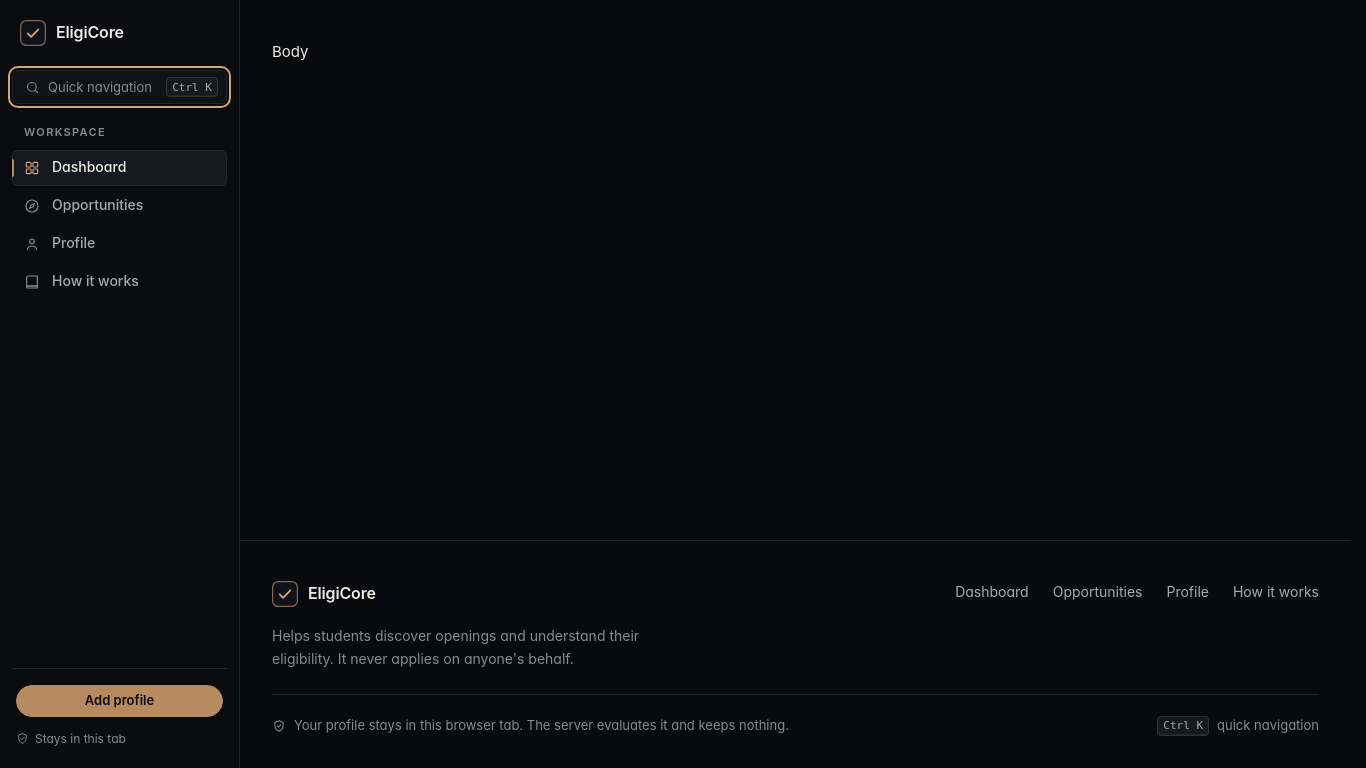
Test case: quick navigation › closes on Escape and returns focus to what opened it
Click the button "Quick navigation Ctrl K" at (120, 87), box top-left (12, 70), bottom-right (227, 104)
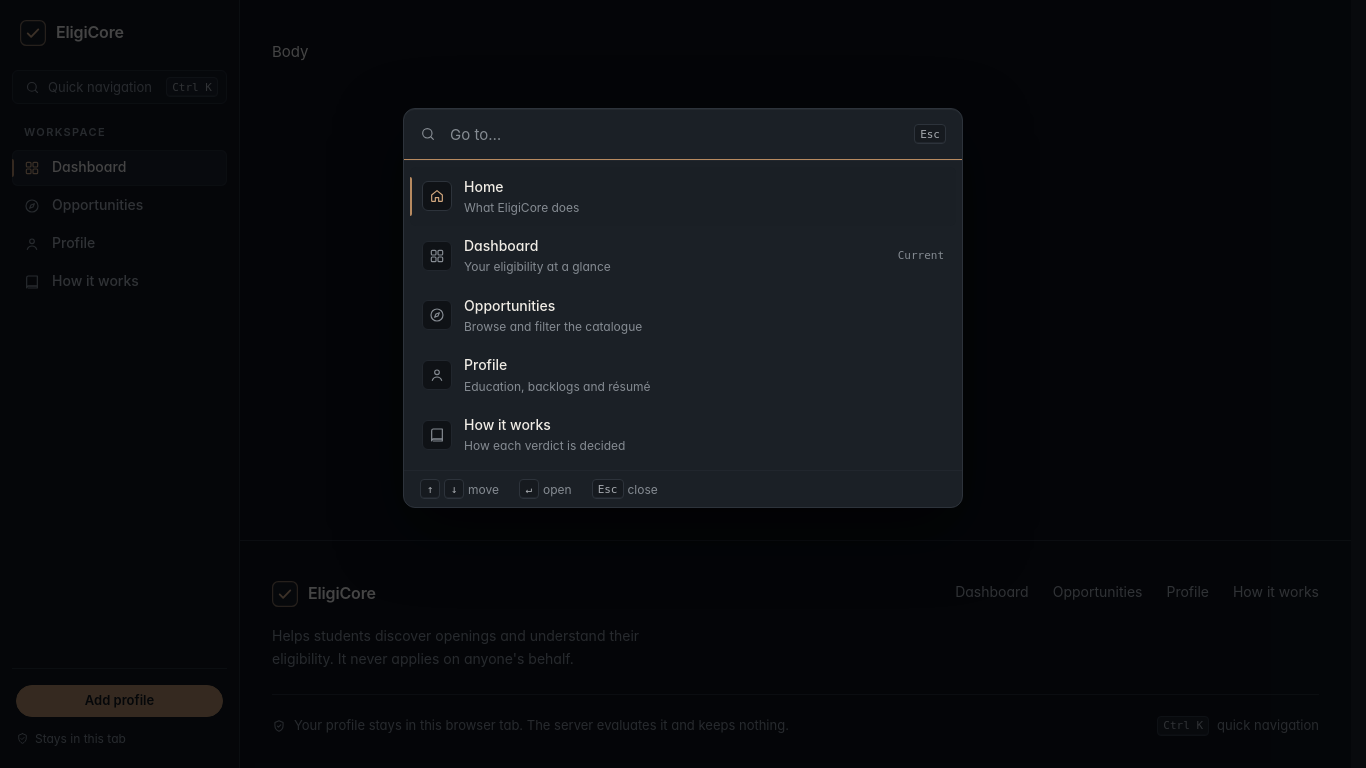
Press Escape in the dropdown named "Go to page", box top-left (448, 108), bottom-right (902, 160)
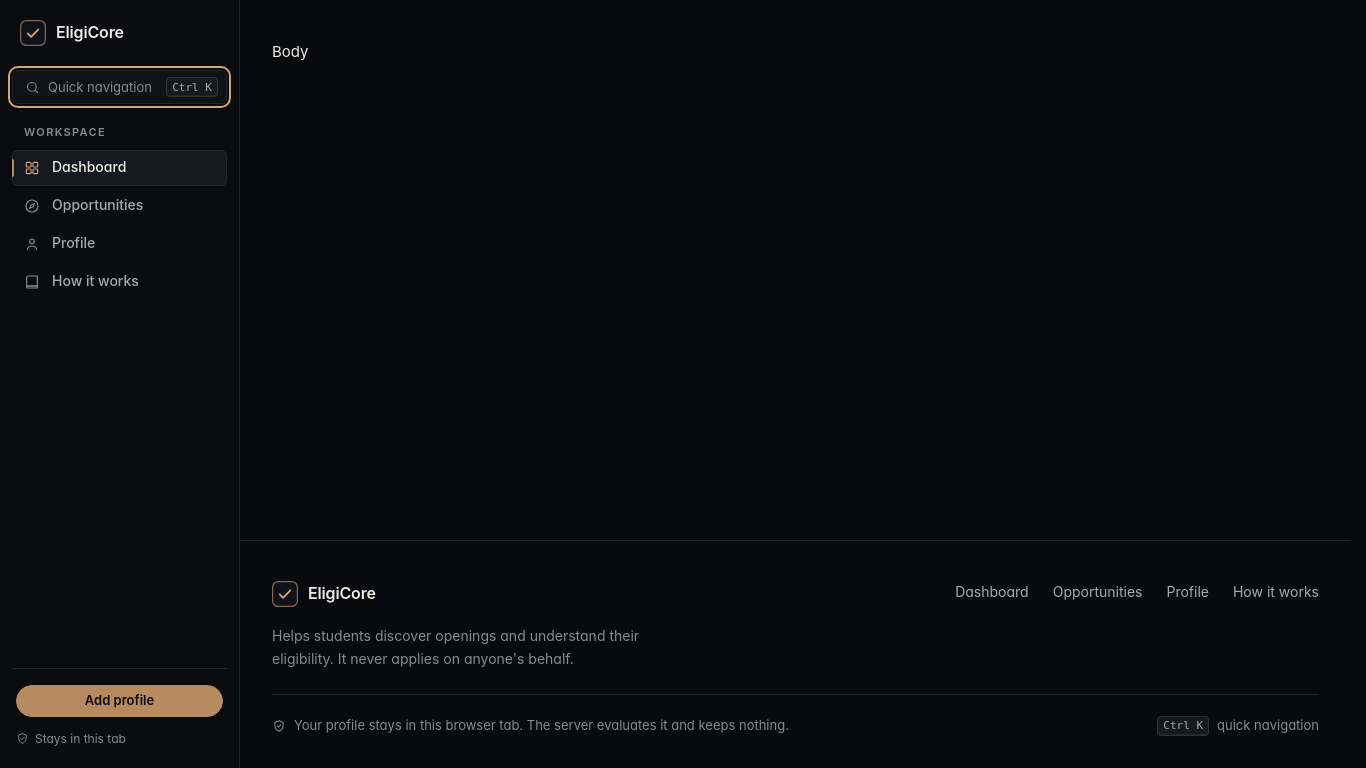
Now the dialog is gone
